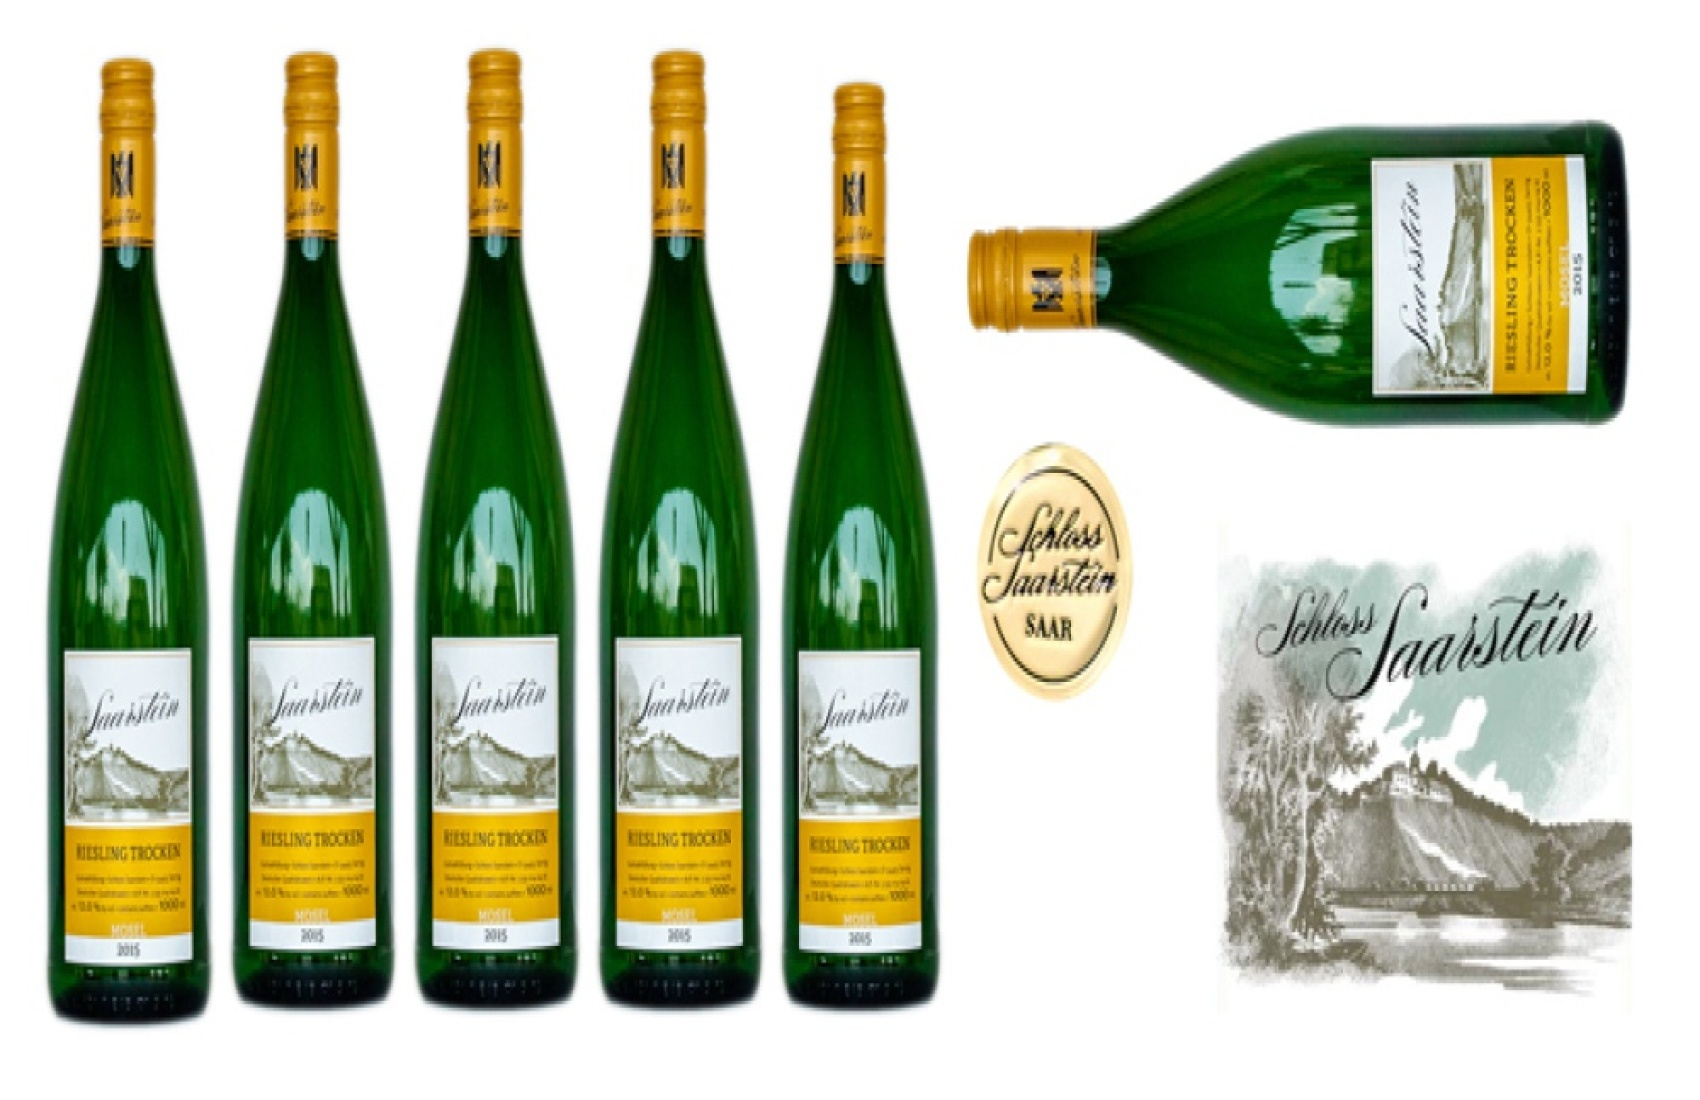wine: (239, 59, 389, 997), (425, 50, 575, 987), (52, 79, 202, 1016), (602, 57, 752, 993), (788, 64, 938, 1001)
